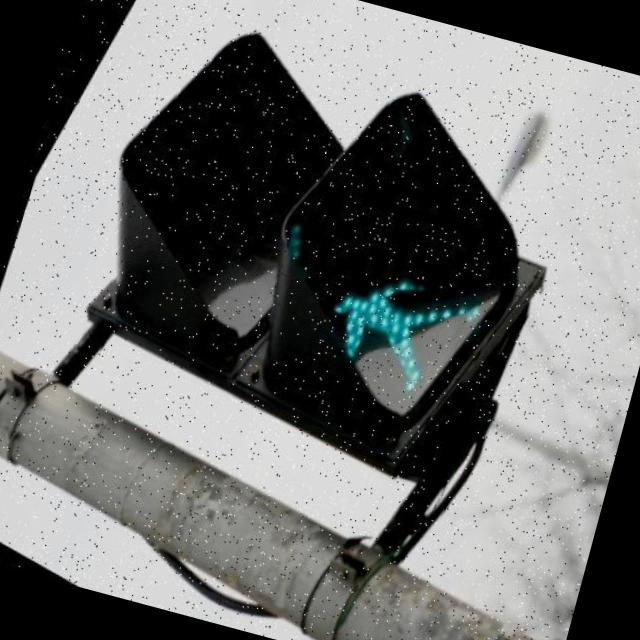green_light: (274, 192, 505, 424)
